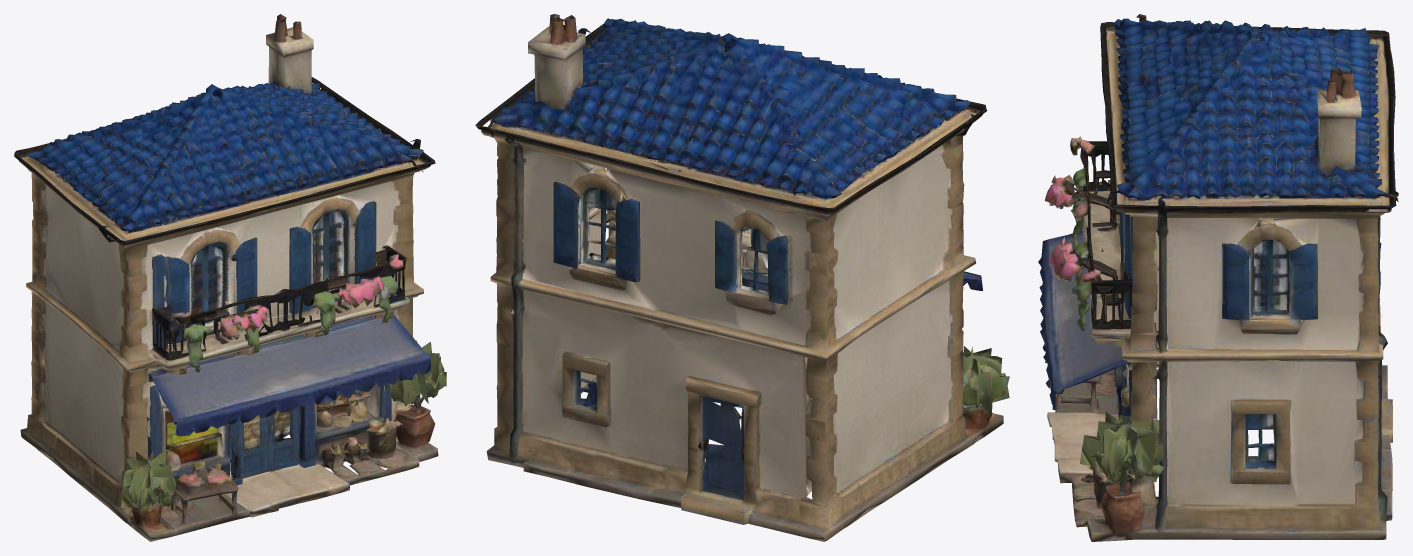
The picture shows the model from 3 angles, left to right: view 1: azimuth 30°, elevation 25°; view 2: azimuth 150°, elevation 25°; view 3: azimuth 270°, elevation 25°; orthographic projection. The views are drawn at different scales.
Parts seen in each view (by area): view 1: harbor__shop_2__native_mobile; view 2: harbor__shop_2__native_mobile; view 3: harbor__shop_2__native_mobile.
Boxes of the visible parts, x1,y1,x2,y2 form: harbor__shop_2__native_mobile: (14,14,446,541); harbor__shop_2__native_mobile: (475,14,1009,541); harbor__shop_2__native_mobile: (1038,14,1398,541).
Bounding box in the file's own units: 0.9361 × 1 × 0.7388.
1 material, 1 textured.
